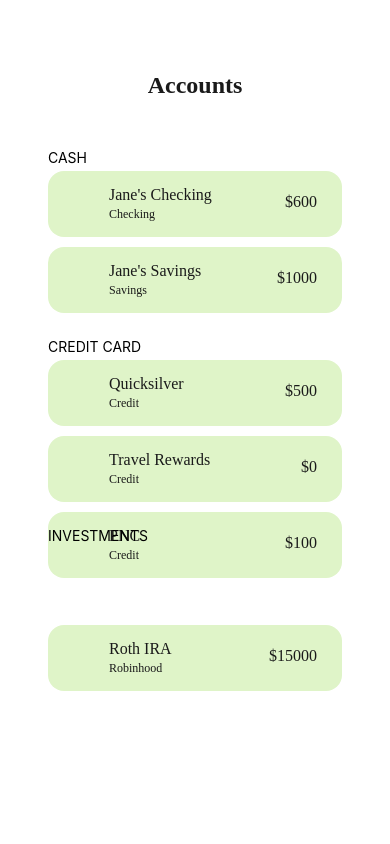
Scenario: Accounts › expands a collapsible row to show placeholder content
Expected: the text "Sample Text" is not shown
Click the text "Jane's Checking" at (160, 195), box [109,186,212,204]
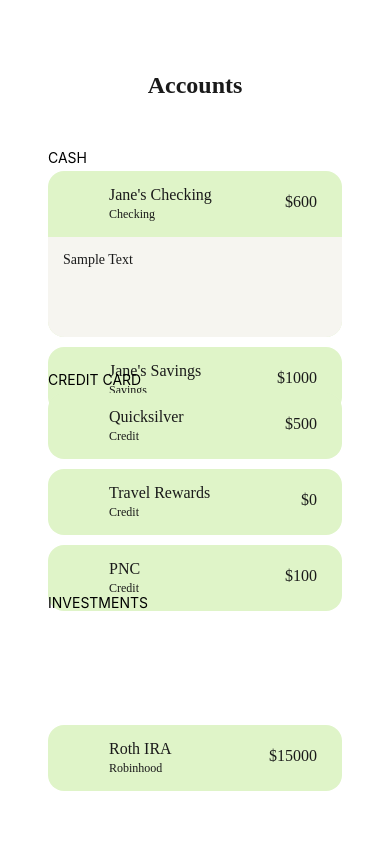
Expected: the text "Sample Text" is shown, [63,252,133,267]
